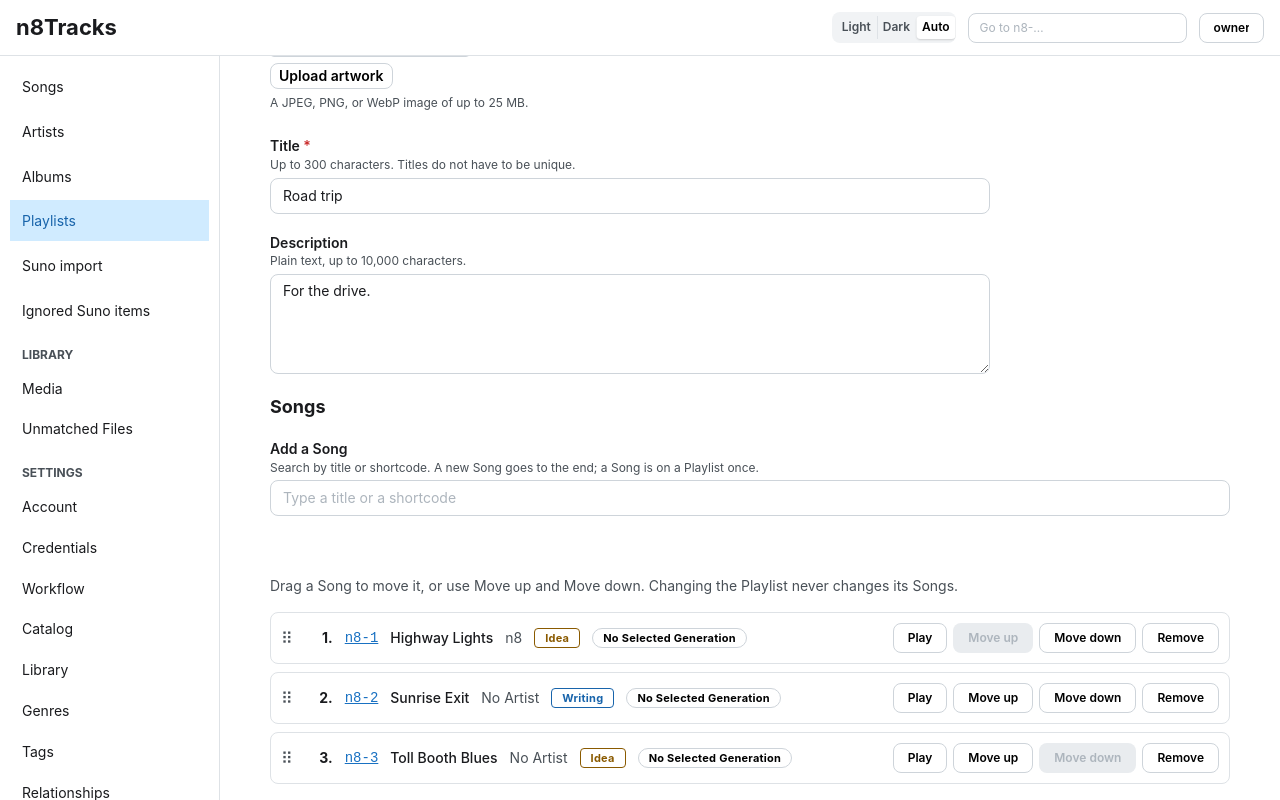
Test: a Playlist page › removes a Song, keeping the others in order
(page scrolled)
Click the button with aria-label "Remove Sunrise Exit": (1181,698) x1=1142 y1=683 x2=1219 y2=713
(page scrolled)
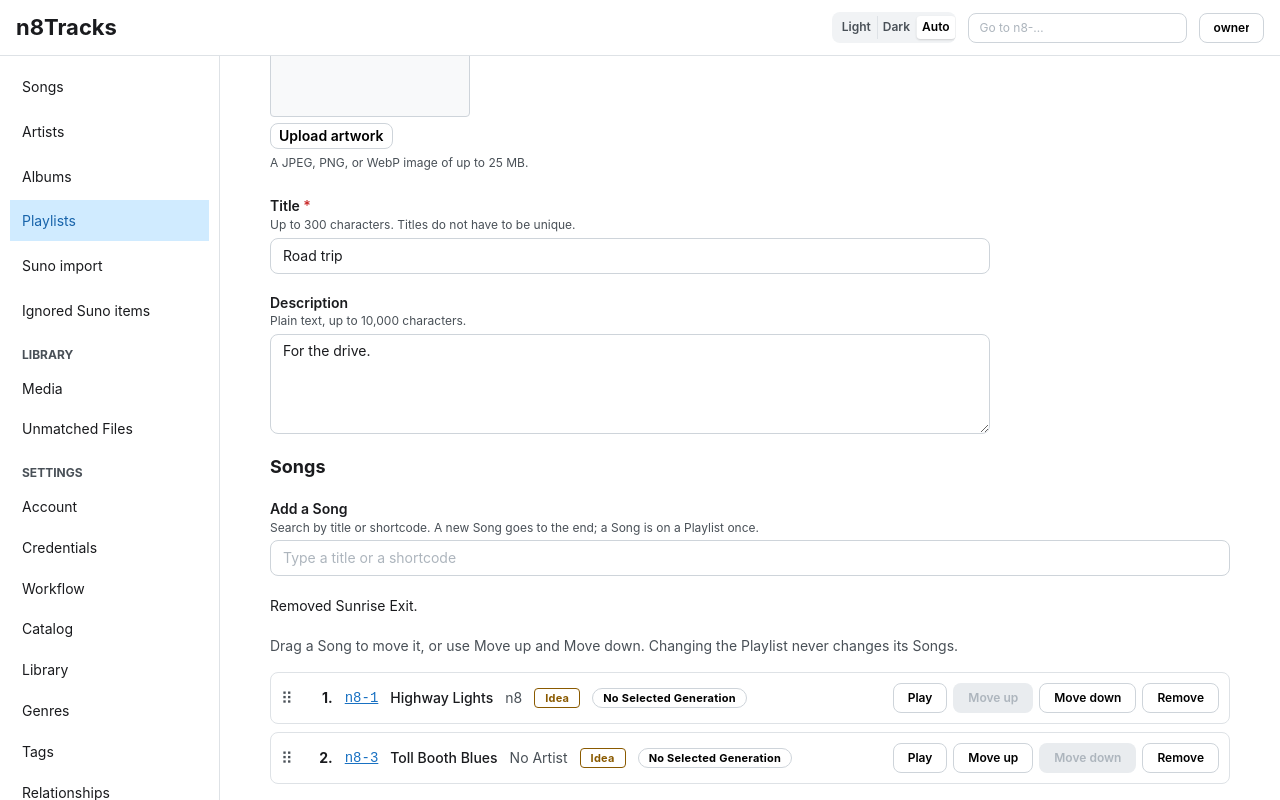
Expected: the message with test id "playlist-status" reads "Removed Sunrise Exit.", x1=270 y1=597 x2=418 y2=614
